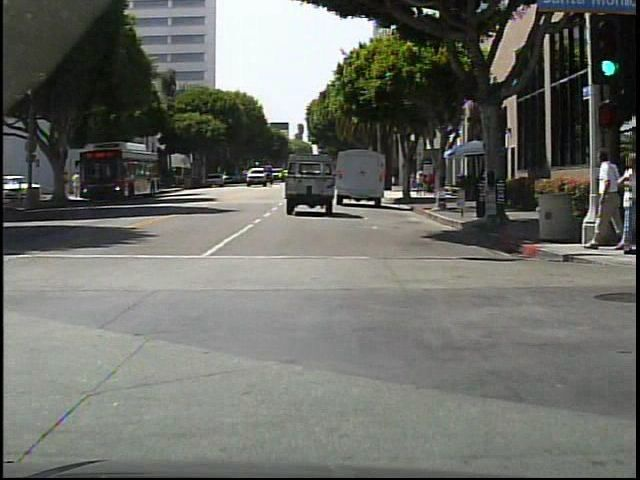person: (586, 149, 624, 251), (609, 155, 637, 254), (74, 171, 84, 199), (417, 171, 427, 198), (64, 172, 73, 200), (412, 168, 419, 198)
